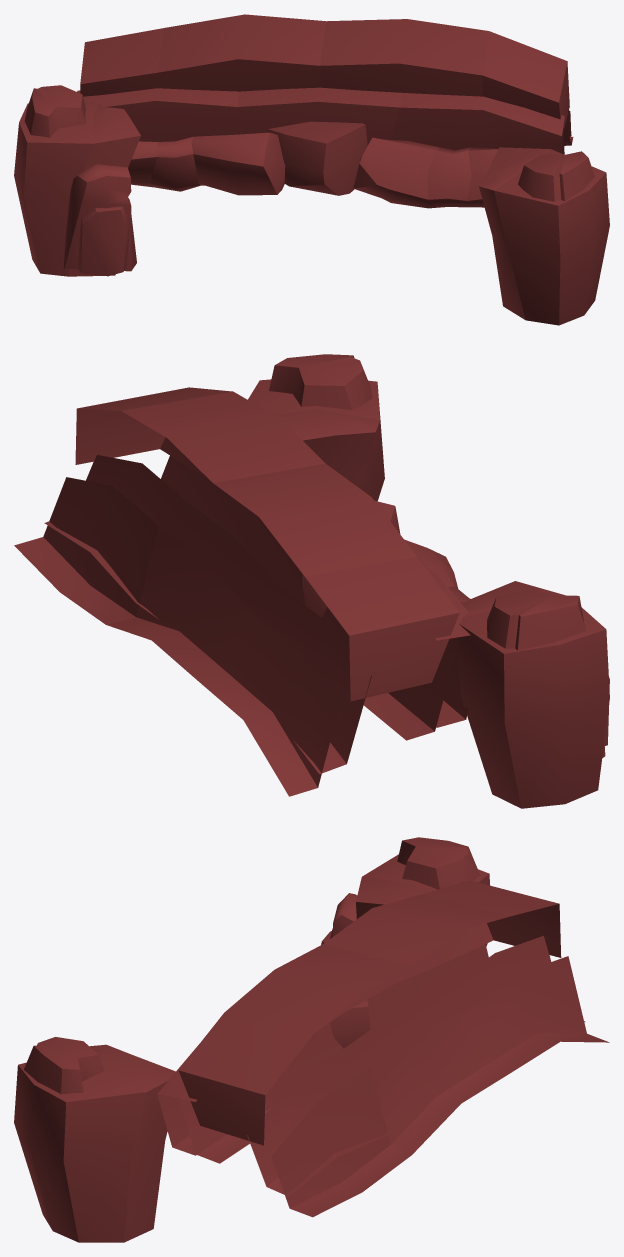
Rendered from RuinsArchCOL.obj.
3 renders of one model, top to bottom at view 1: azimuth 30°, elevation 25°; view 2: azimuth 150°, elevation 25°; view 3: azimuth 270°, elevation 25°, orthographic. The views are drawn at different scales.
Parts seen in each view (by area): view 1: RuinsArch:polySurface93; view 2: RuinsArch:polySurface93; view 3: RuinsArch:polySurface93.
Boxes of the visible parts, x1=… form: RuinsArch:polySurface93: x1=14, y1=14, x2=609, y2=325; RuinsArch:polySurface93: x1=14, y1=354, x2=609, y2=808; RuinsArch:polySurface93: x1=14, y1=837, x2=609, y2=1242.
Bounding box in the file's own units: 245 × 94.31 × 228.
